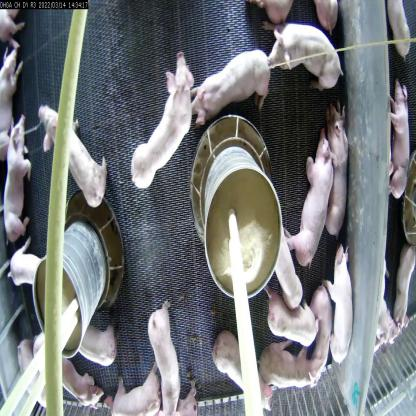Pig: (131, 53, 194, 200), (33, 105, 109, 206), (267, 8, 340, 97), (195, 41, 266, 129), (287, 140, 337, 264), (143, 295, 194, 415), (324, 115, 362, 248), (41, 340, 96, 412), (264, 281, 318, 353), (2, 120, 33, 244), (330, 242, 357, 375), (261, 342, 316, 403), (213, 327, 256, 398), (304, 286, 330, 401), (71, 316, 121, 374), (5, 239, 46, 305), (111, 369, 164, 416), (0, 46, 20, 124)
